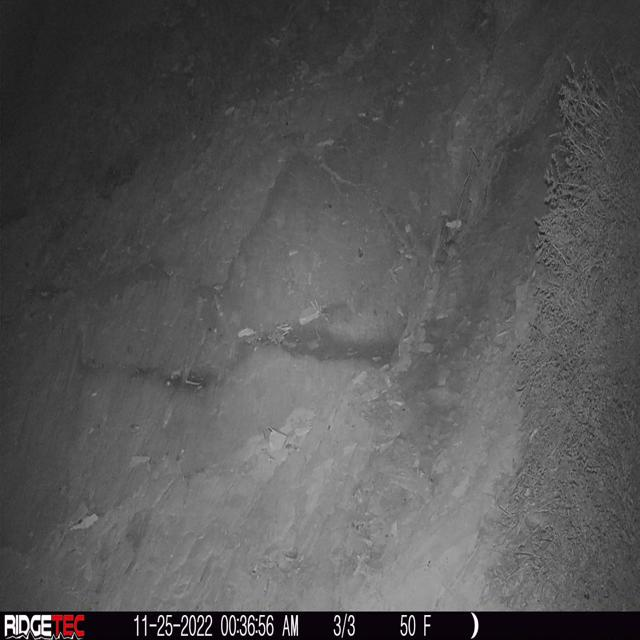rodent: (437, 226, 464, 266)
